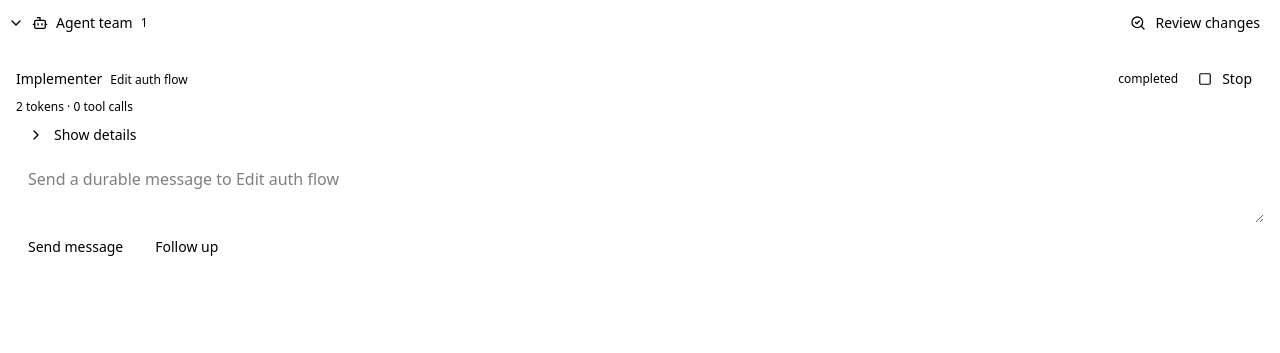
it: SubagentTeamCard › renders the bounded Implementer report in thread details
Click the button with aria-label "Show details for implementer Edit auth flow" at [82, 135], box x1=16 y1=119 x2=148 y2=151
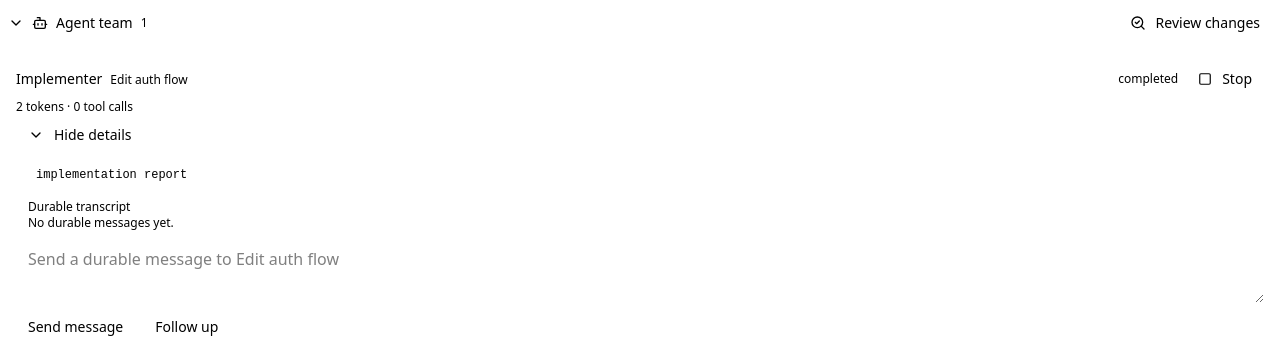
Result: the text "implementation report" is shown at x1=36 y1=168 x2=187 y2=182
